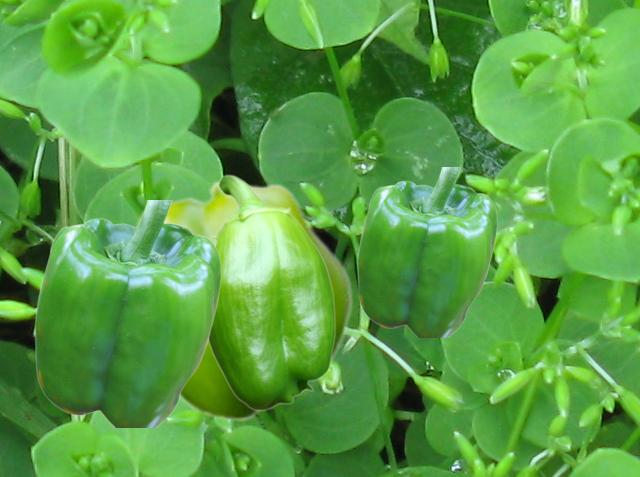bell_pepper: (131, 180, 352, 421), (34, 200, 220, 426), (208, 174, 335, 410), (357, 167, 496, 336)
